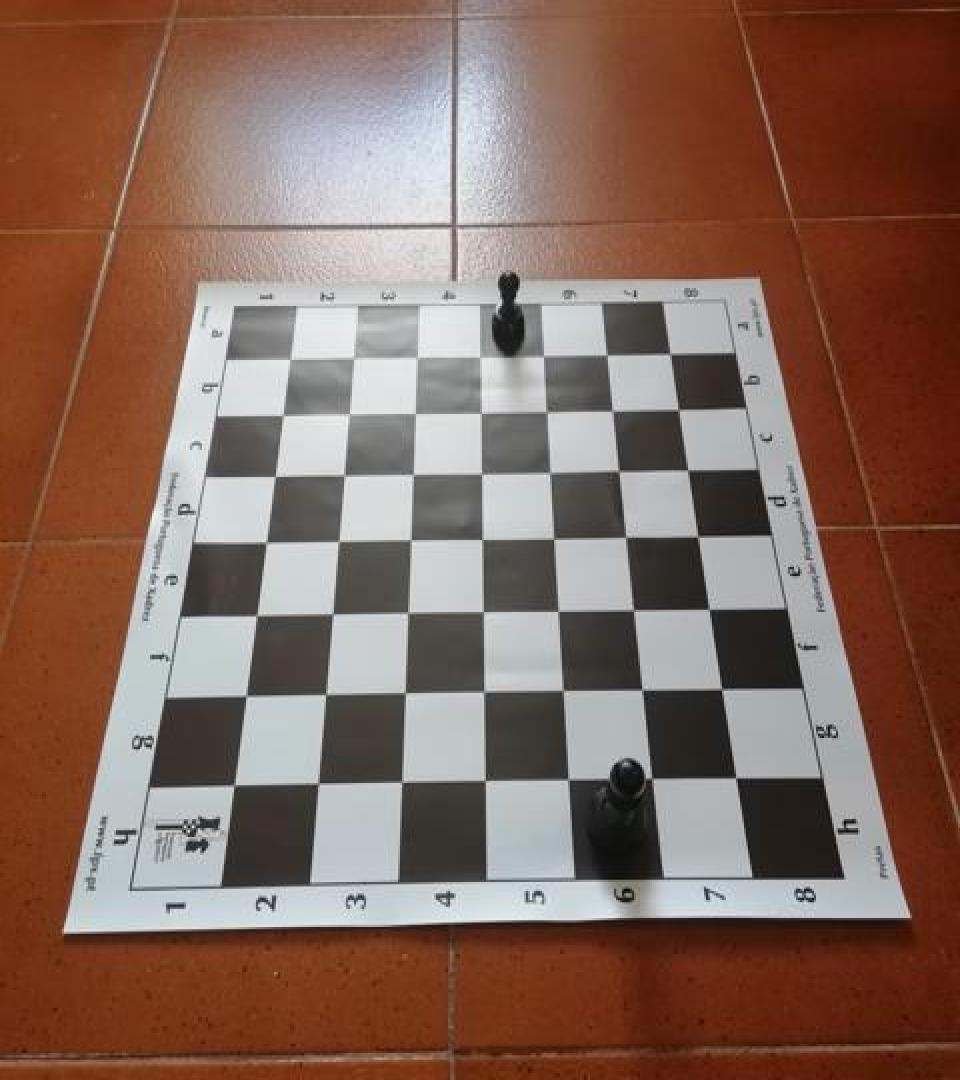xcorner: (530, 338, 560, 372), (466, 338, 496, 372), (402, 340, 432, 374), (338, 340, 368, 374), (274, 341, 304, 375), (667, 392, 697, 426), (600, 394, 630, 428), (533, 394, 563, 428), (467, 395, 497, 429), (400, 395, 430, 429), (333, 396, 363, 430), (266, 397, 296, 431), (676, 453, 706, 487), (607, 454, 637, 488), (537, 454, 567, 488), (467, 456, 497, 490), (258, 458, 288, 492), (686, 520, 716, 554), (614, 521, 644, 555), (541, 522, 571, 556), (468, 522, 498, 556), (395, 523, 425, 557), (323, 524, 353, 558), (250, 524, 280, 558), (698, 593, 728, 627), (622, 594, 652, 628), (545, 594, 575, 628), (469, 595, 499, 629), (393, 596, 423, 630), (316, 596, 346, 630), (240, 597, 270, 631), (710, 672, 740, 706), (630, 674, 660, 708), (550, 674, 580, 708), (470, 675, 500, 709), (390, 676, 420, 710), (310, 677, 340, 711), (229, 678, 259, 712), (724, 762, 754, 796), (640, 762, 670, 796), (556, 762, 586, 796), (471, 764, 501, 798), (387, 765, 417, 799), (302, 766, 332, 800), (218, 767, 248, 801), (658, 338, 688, 371), (594, 338, 624, 371), (398, 457, 428, 490), (328, 457, 358, 490)
